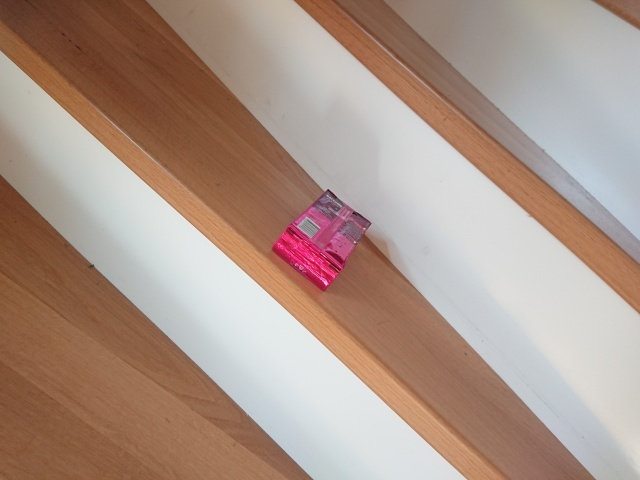Barcaffe Classic Original 225g: (270, 187, 373, 293)
